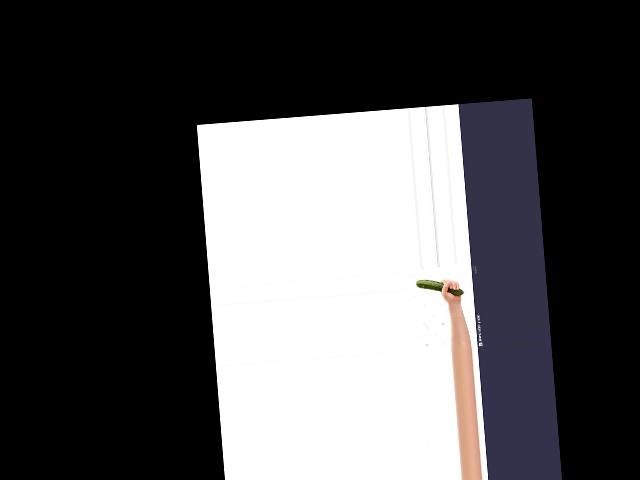cucumber: (416, 276, 463, 297)
